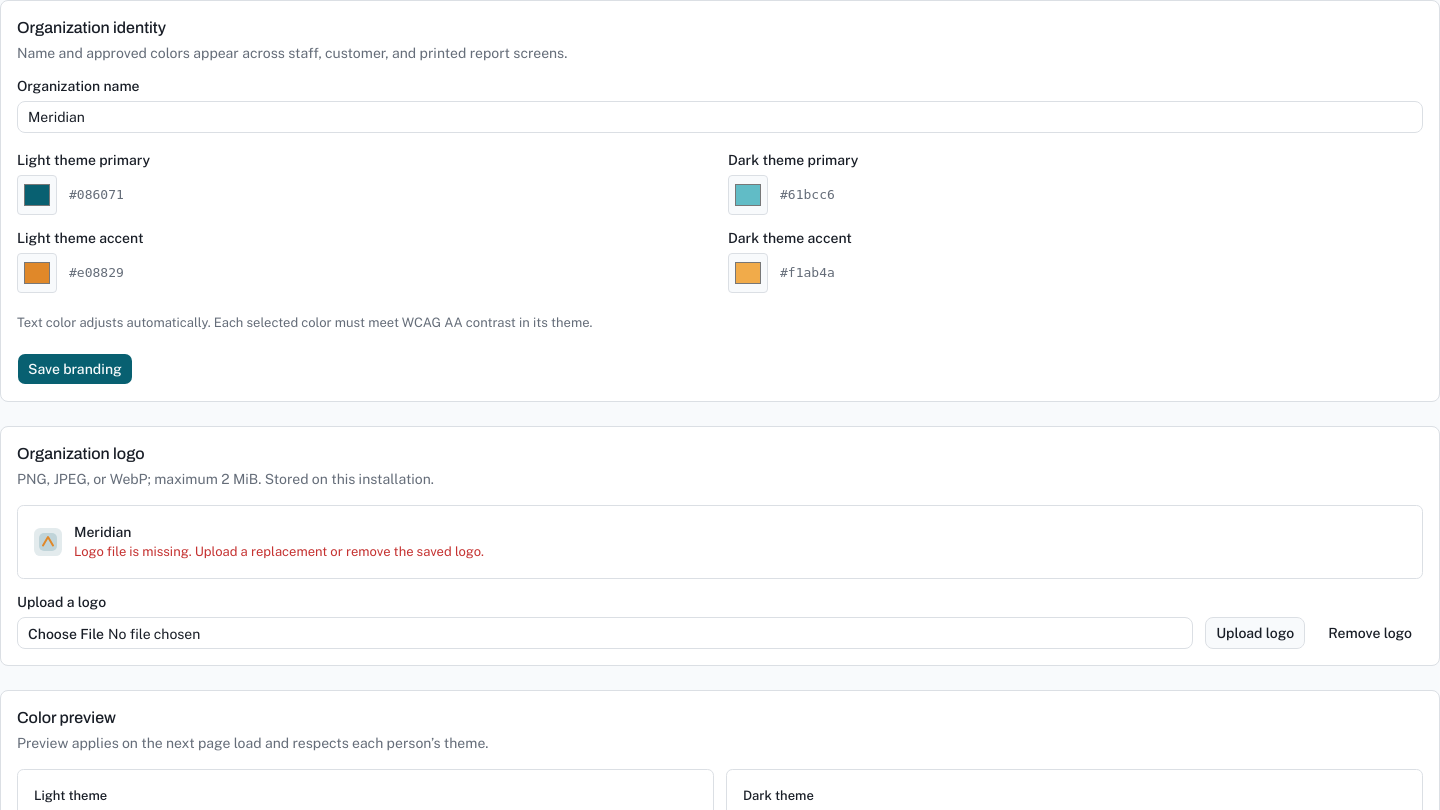
installation branding editor › shows saved-logo failures and surfaces rejected API requests
Expected: the message shows "Logo file is missing.", [74, 544, 484, 559]
Click the button "Save branding": (75, 369) [17, 353, 133, 385]
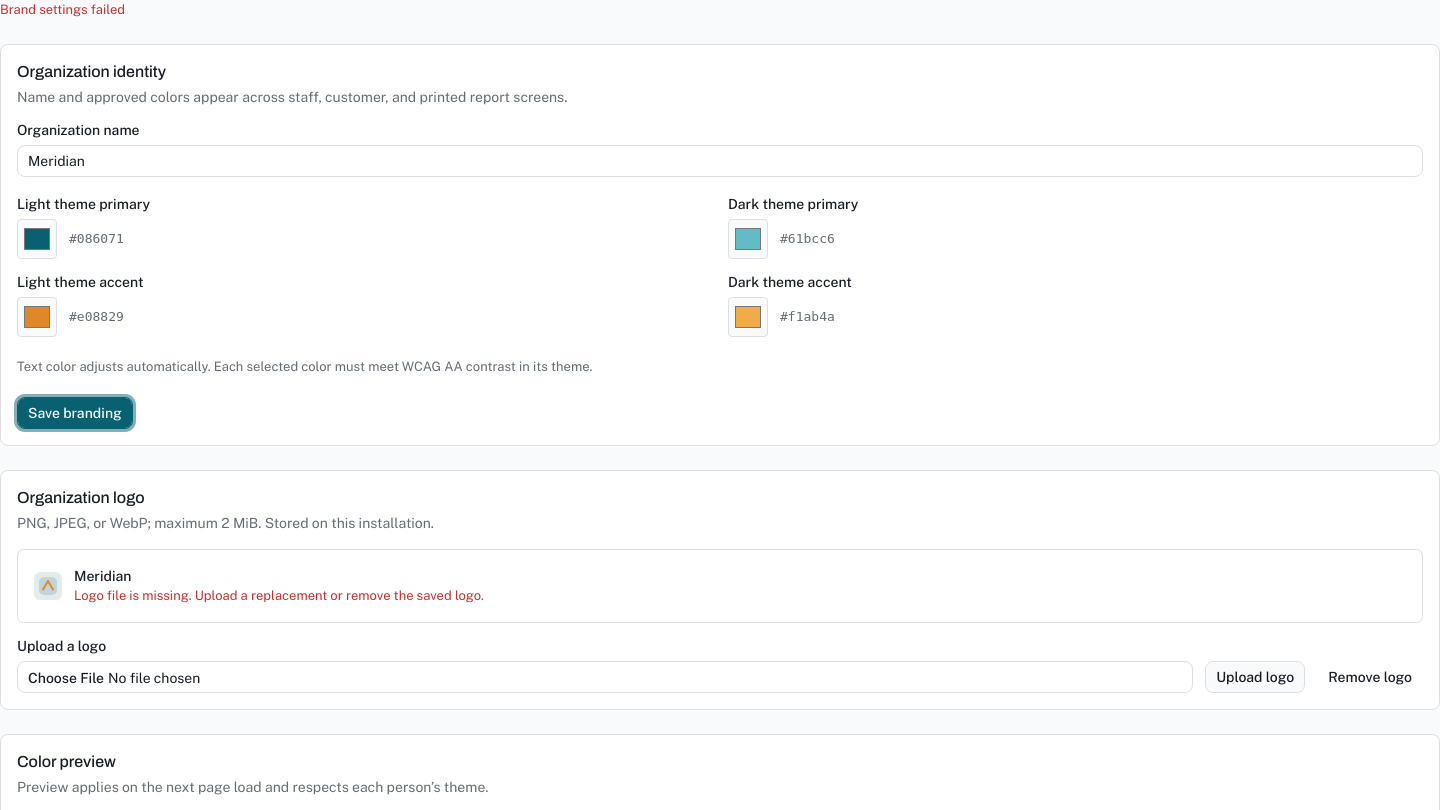
Expected: the text "Brand settings failed" is shown, [0, 2, 125, 17]
